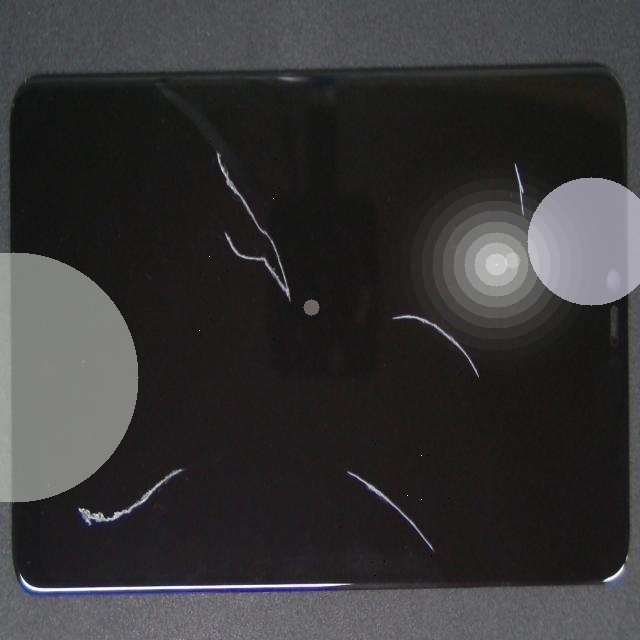scratch: (112, 206, 557, 640), (115, 23, 314, 242)
